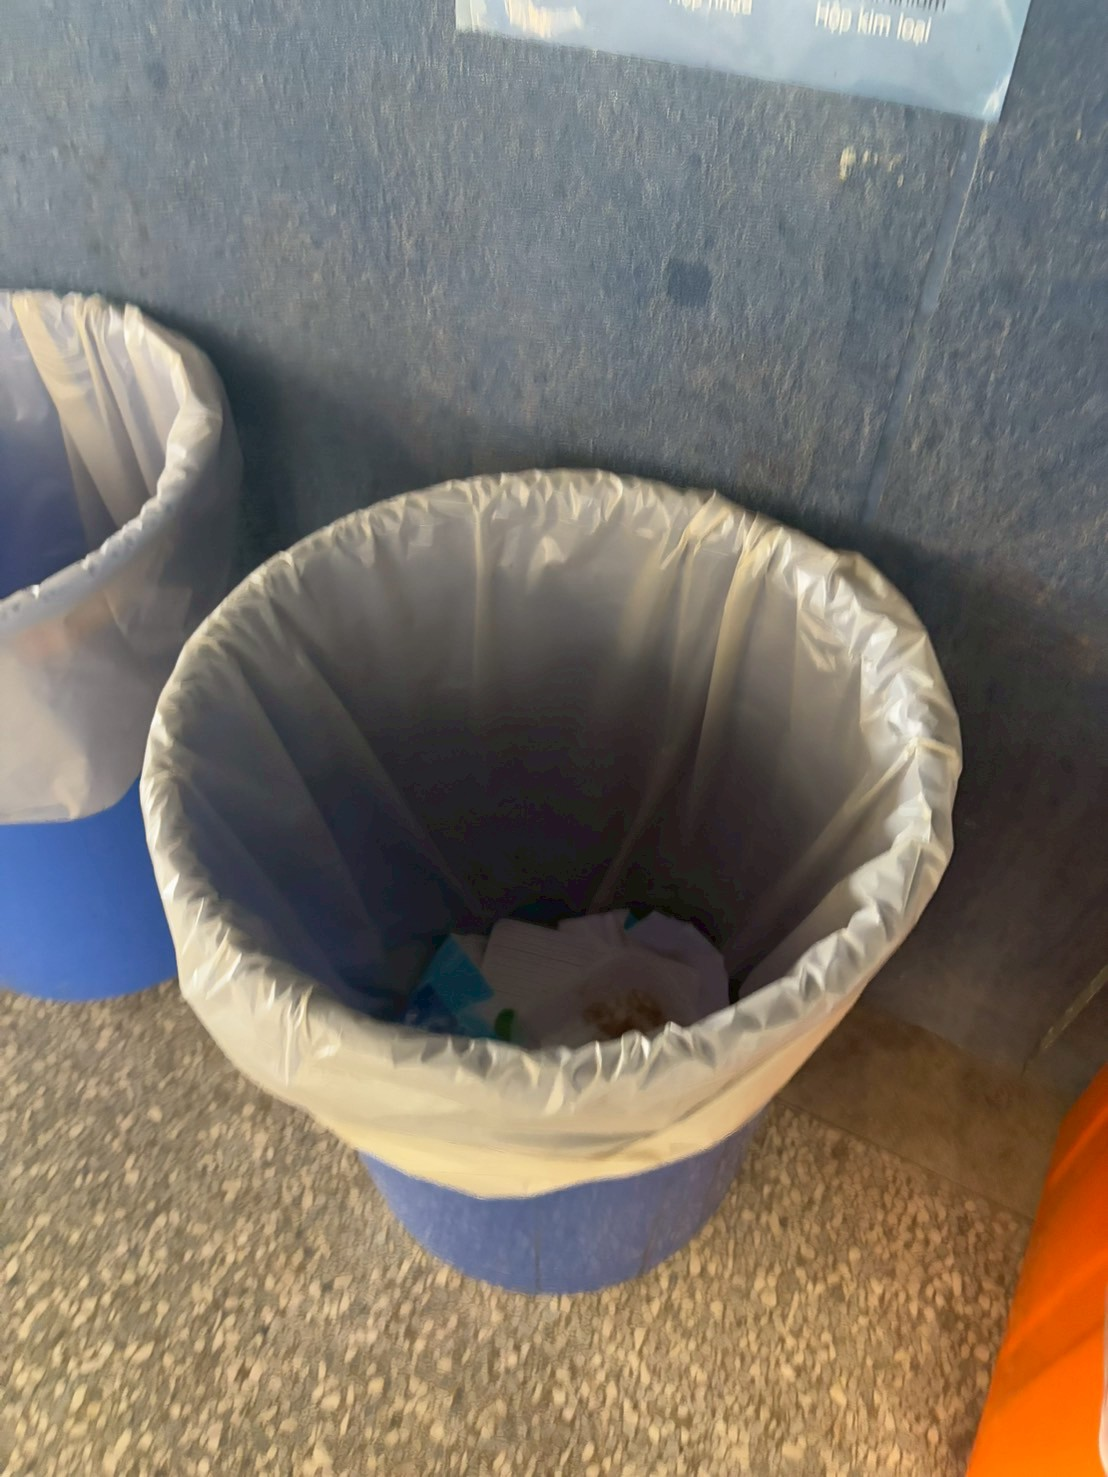normal_bin: (125, 448, 957, 1318)
